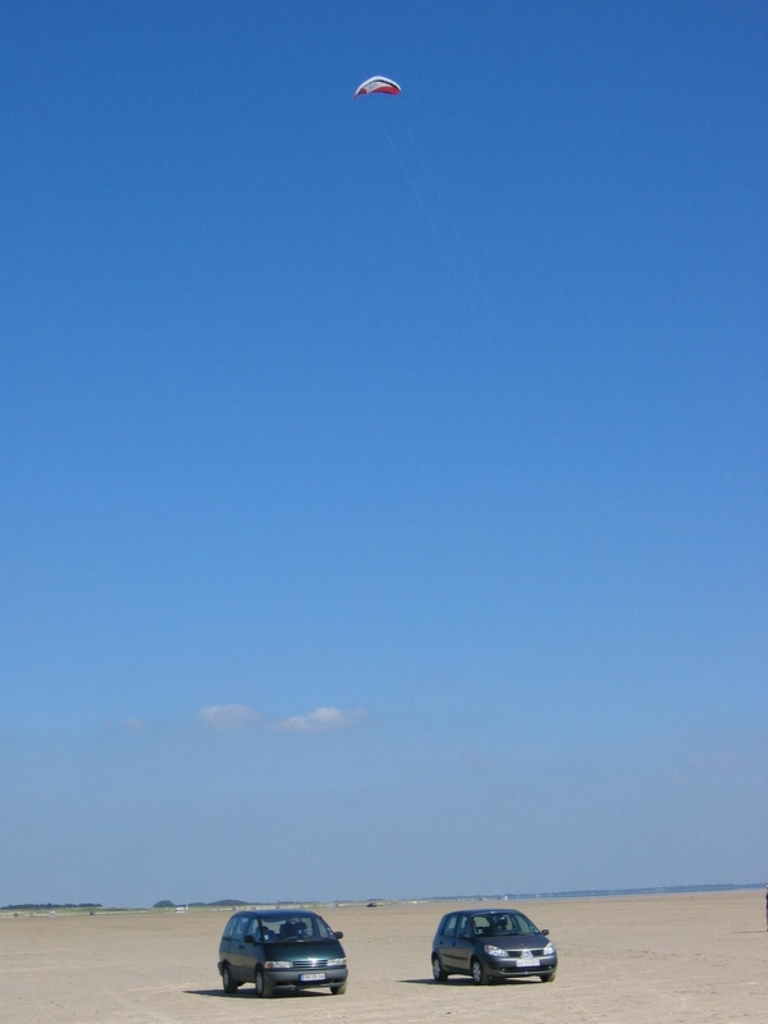Car: (215, 912, 344, 994), (430, 903, 555, 984)
